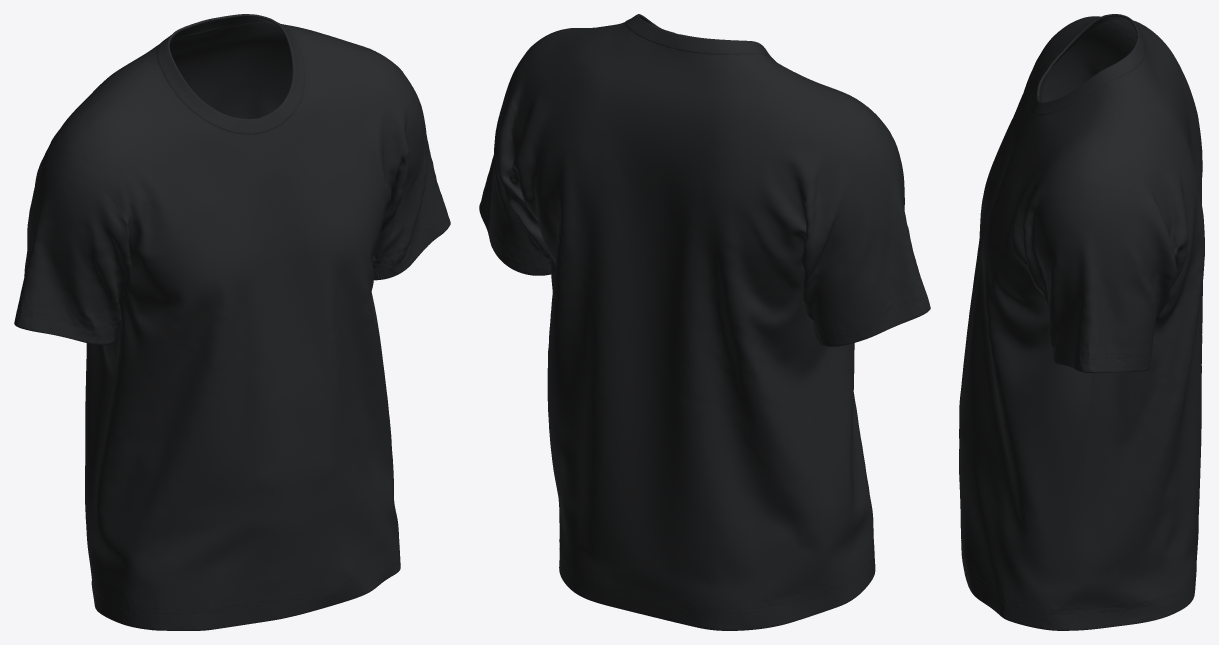
The model's file is shirt.glb.
The picture shows the model from 3 angles, left to right: view 1: azimuth 30°, elevation 25°; view 2: azimuth 150°, elevation 25°; view 3: azimuth 270°, elevation 25°; orthographic projection. The views are drawn at different scales.
Parts seen in each view (by area): view 1: ORB_Tee_Men, ORB_Tee_Men_|_retained_finishing; view 2: ORB_Tee_Men, ORB_Tee_Men_|_retained_finishing; view 3: ORB_Tee_Men, ORB_Tee_Men_|_retained_finishing.
Boxes of the visible parts, left/top/right/bottom form: ORB_Tee_Men: left=14, top=23, right=450, bottom=630; ORB_Tee_Men_|_retained_finishing: left=156, top=14, right=304, bottom=134; ORB_Tee_Men: left=479, top=22, right=930, bottom=630; ORB_Tee_Men_|_retained_finishing: left=625, top=14, right=775, bottom=61; ORB_Tee_Men: left=959, top=16, right=1204, bottom=630; ORB_Tee_Men_|_retained_finishing: left=1030, top=14, right=1145, bottom=115.
Bounding box in the file's own units: 0.5986 × 0.7178 × 0.2988.
3 materials, 2 textured.
